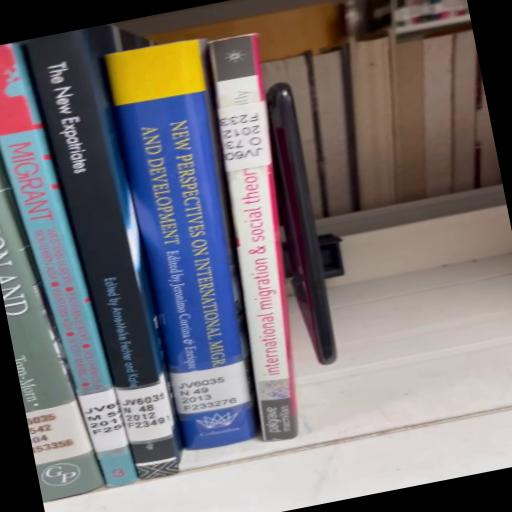reverse: (210, 35, 324, 442)
